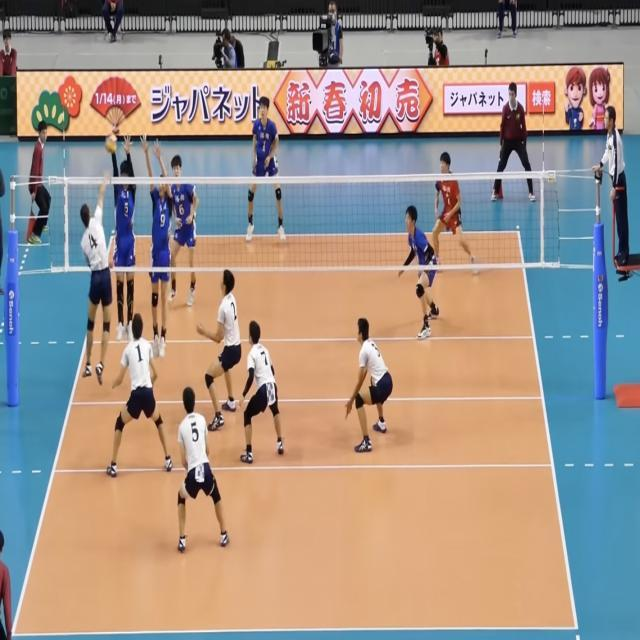spike: (76, 126, 123, 386)
